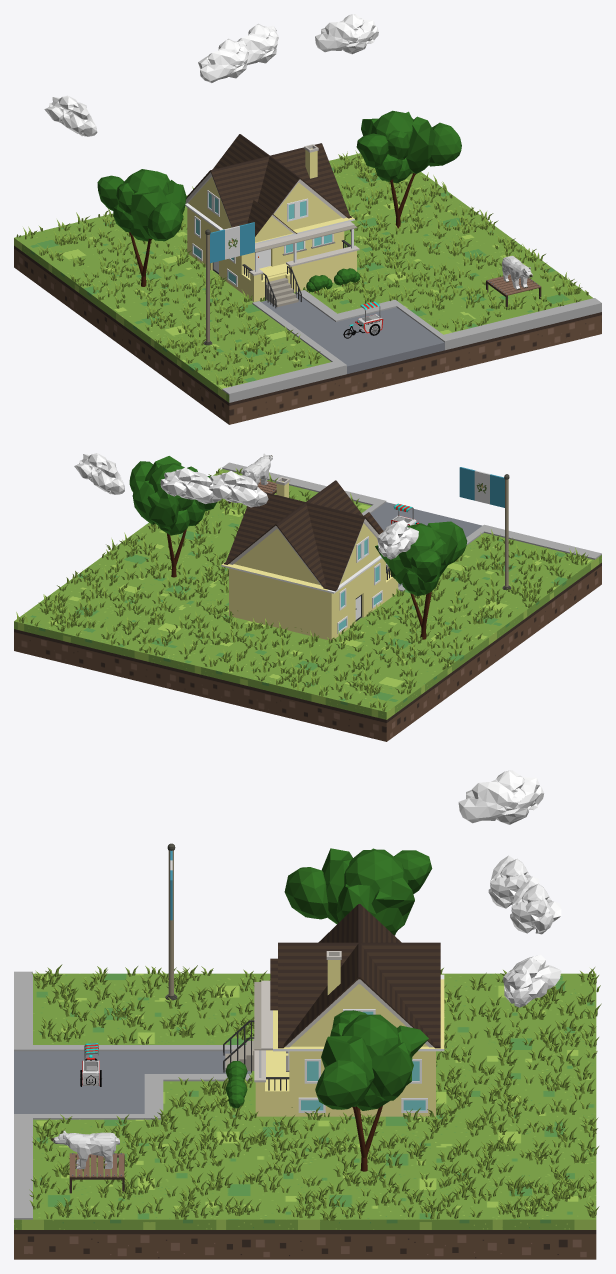
3 renders of one model, top to bottom at view 1: azimuth 30°, elevation 25°; view 2: azimuth 150°, elevation 25°; view 3: azimuth 270°, elevation 25°, orthographic. The views are drawn at different scales.
Parts seen in each view (by area): view 1: Cube.006, Cube.1555, Circle.012_Grass_0.192, Cube.007, tree, tree.001, OBJRANDOM_GUATEMALAN_FLAG, ANIMAL_OSO_POLAR, VEHICLES_SNOWBAL_BIKE, Cube.009; view 2: Cube.006, Cube.1555, Circle.012_Grass_0.192, Cube.007, tree.001, tree, OBJRANDOM_GUATEMALAN_FLAG, ANIMAL_OSO_POLAR; view 3: Cube.006, Circle.012_Grass_0.192, Cube.1555, tree, Cube.007, tree.001, ANIMAL_OSO_POLAR, Cube.009, OBJRANDOM_GUATEMALAN_FLAG, VEHICLES_SNOWBAL_BIKE.
Part boxes in pixels (x1=…): Cube.006: x1=14, y1=153, x2=601, y2=424; Cube.1555: x1=185, y1=134, x2=359, y2=308; Circle.012_Grass_0.192: x1=16, y1=150, x2=588, y2=386; Cube.007: x1=44, y1=14, x2=378, y2=136; tree: x1=356, y1=110, x2=461, y2=228; tree.001: x1=97, y1=169, x2=186, y2=286; OBJRANDOM_GUATEMALAN_FLAG: x1=203, y1=222, x2=254, y2=345; ANIMAL_OSO_POLAR: x1=502, y1=255, x2=532, y2=290; VEHICLES_SNOWBAL_BIKE: x1=343, y1=301, x2=383, y2=338; Cube.009: x1=486, y1=274, x2=541, y2=306; Cube.006: x1=14, y1=462, x2=601, y2=741; Cube.1555: x1=221, y1=477, x2=398, y2=640; Circle.012_Grass_0.192: x1=16, y1=468, x2=588, y2=711; Cube.007: x1=74, y1=453, x2=418, y2=559; tree.001: x1=375, y1=521, x2=467, y2=639; tree: x1=129, y1=456, x2=216, y2=577; OBJRANDOM_GUATEMALAN_FLAG: x1=459, y1=467, x2=511, y2=590; ANIMAL_OSO_POLAR: x1=242, y1=453, x2=272, y2=485; Cube.006: x1=14, y1=971, x2=596, y2=1259; Circle.012_Grass_0.192: x1=29, y1=964, x2=601, y2=1220; Cube.1555: x1=223, y1=904, x2=444, y2=1116; tree: x1=315, y1=1010, x2=428, y2=1171; Cube.007: x1=458, y1=770, x2=561, y2=1007; tree.001: x1=284, y1=848, x2=432, y2=935; ANIMAL_OSO_POLAR: x1=50, y1=1130, x2=119, y2=1169; Cube.009: x1=69, y1=1153, x2=124, y2=1193; OBJRANDOM_GUATEMALAN_FLAG: x1=165, y1=843, x2=177, y2=1000; VEHICLES_SNOWBAL_BIKE: x1=80, y1=1043, x2=102, y2=1086.
Bounding box in the file's own units: 4071 × 2176 × 4040.
Materials: 44 (3 with a texture image).
